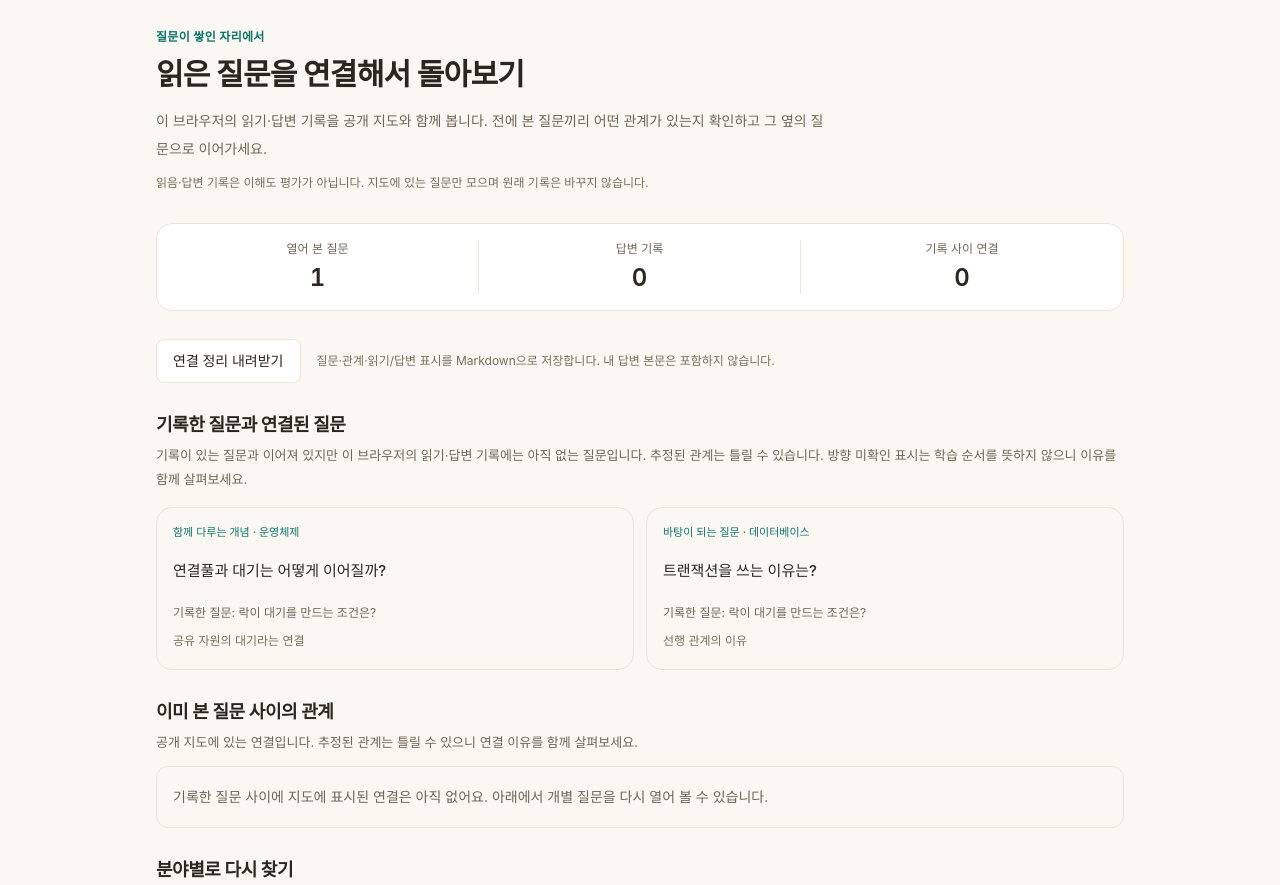
Scenario: recorded knowledge connections › keeps records intact when the browser cannot create a download
Click the button "연결 정리 내려받기".
click(228, 361)  # box [156,339,300,383]
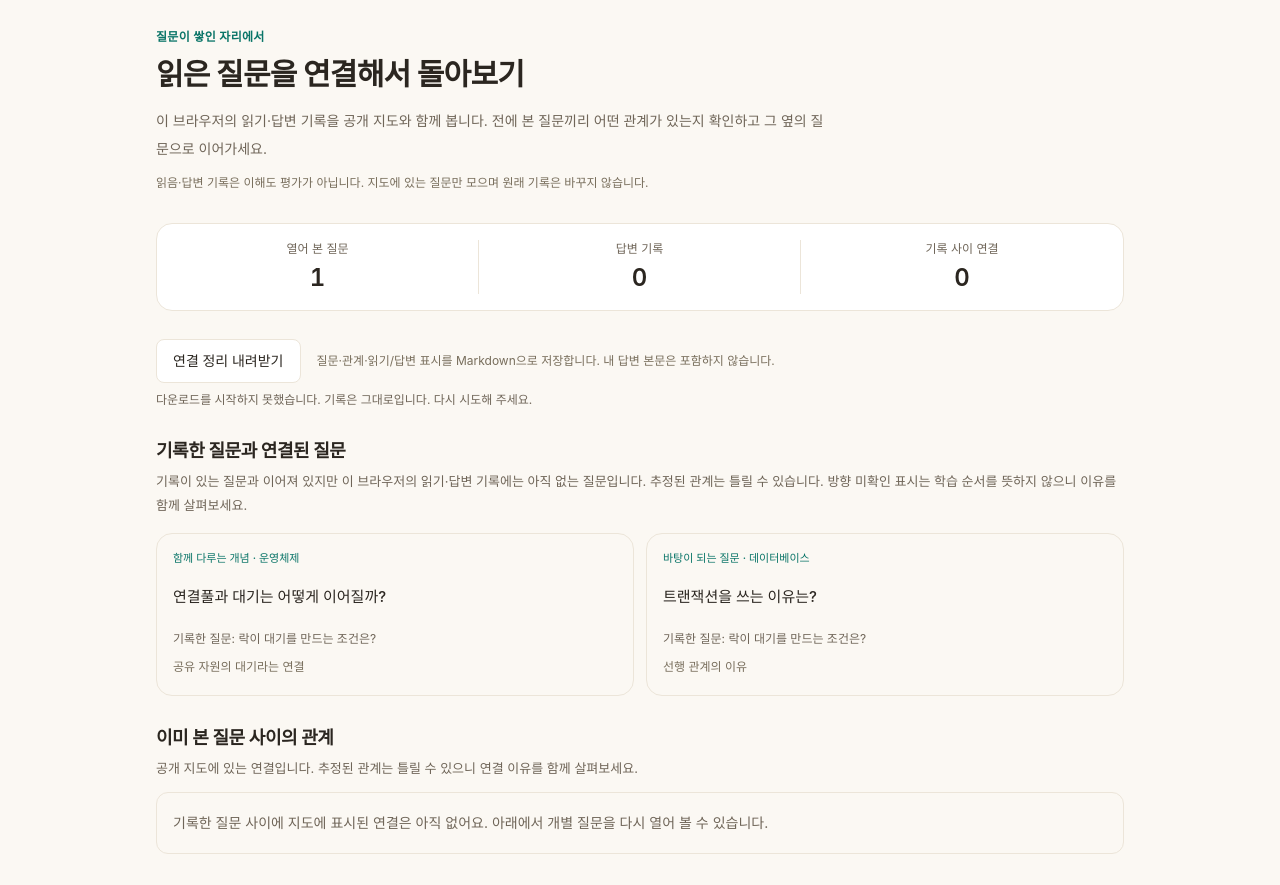
Now the text "다운로드를 시작하지 못했습니다. 기록은 그대로입니다. 다시 시도해 주세요." is shown, box [156,392,532,407]
